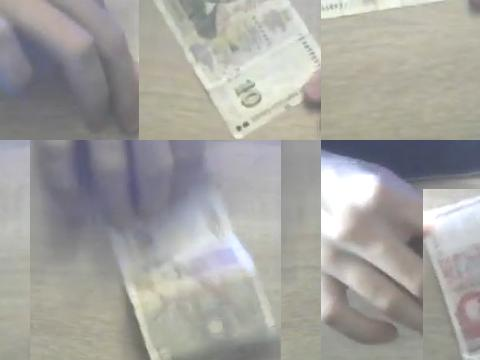10leva: (56, 140, 281, 360), (150, 0, 321, 140)
5leva: (423, 195, 480, 360)
